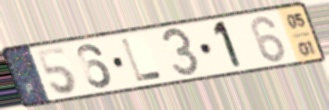1: (210, 19, 245, 71)
3: (160, 25, 202, 80)
5: (34, 43, 81, 97)
6: (248, 14, 288, 65), (76, 43, 113, 90)
L: (118, 37, 165, 84)
